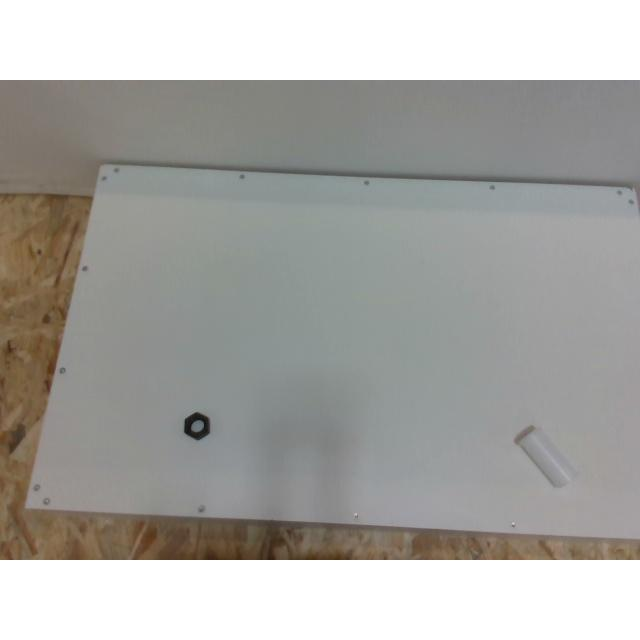M20: (182, 412, 210, 441)
Spacer: (514, 425, 578, 487)
